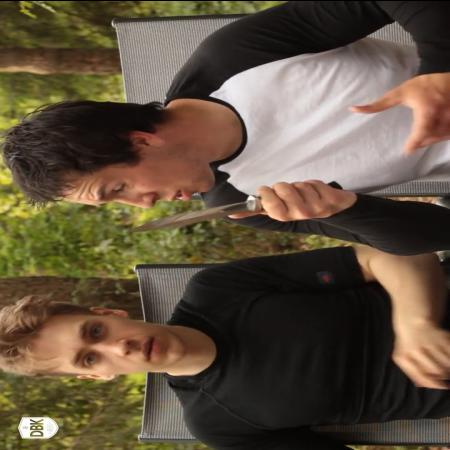long weapon: (114, 178, 308, 236)
